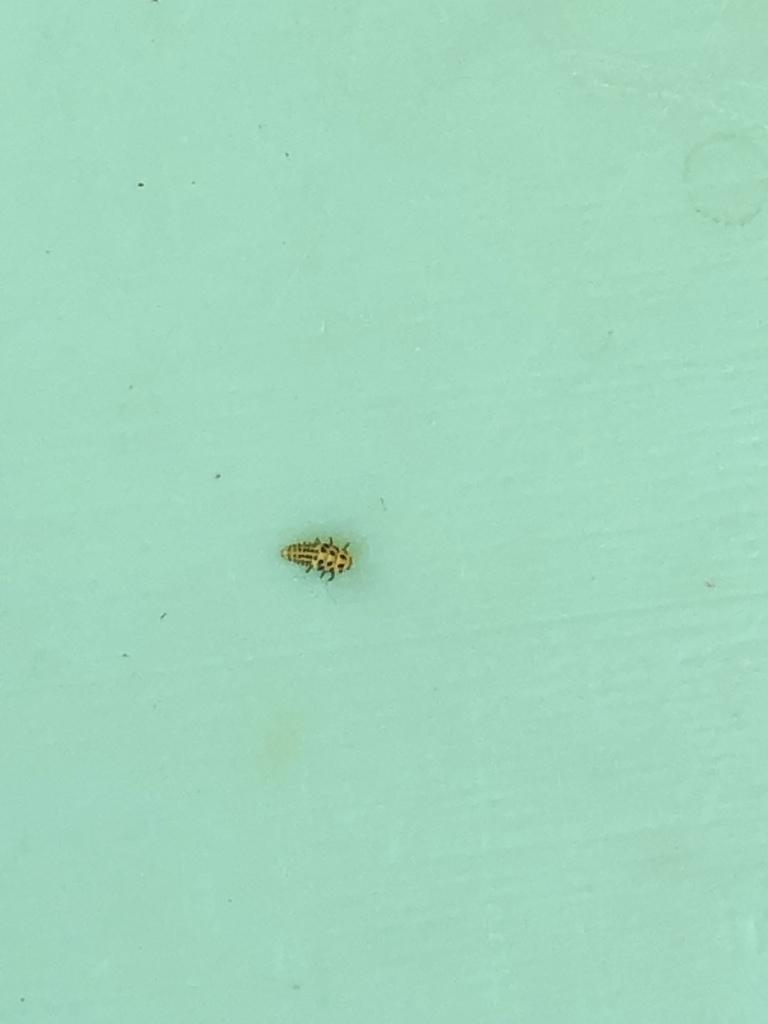ladybug: (279, 533, 358, 584)
